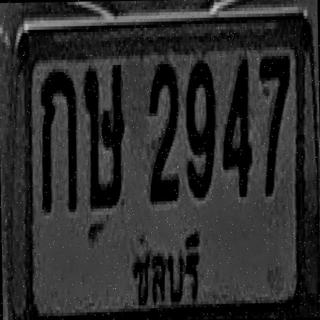A01: (40, 67, 77, 211)
A39: (83, 60, 126, 207)
N02: (148, 59, 178, 200)
N04: (221, 55, 252, 196)
N07: (259, 53, 292, 194)
N09: (185, 58, 216, 196)
P13: (127, 226, 203, 320)
